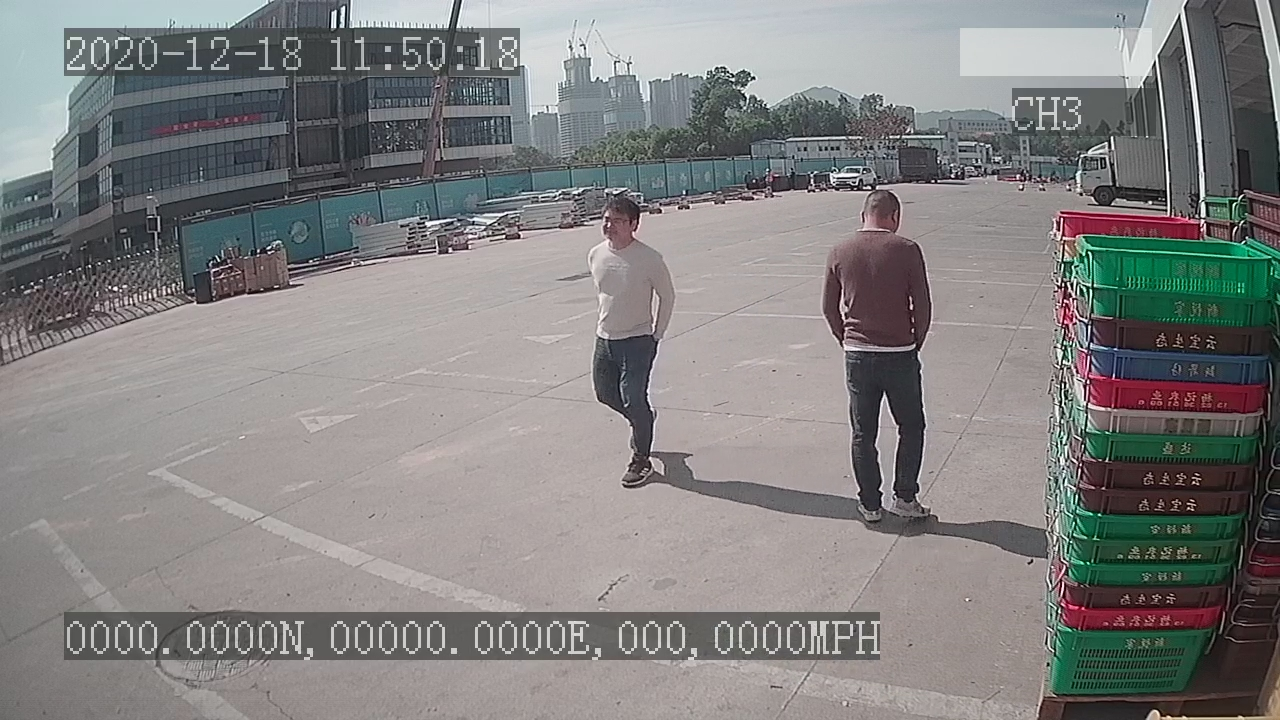person: (815, 186, 940, 531), (586, 194, 679, 492)
